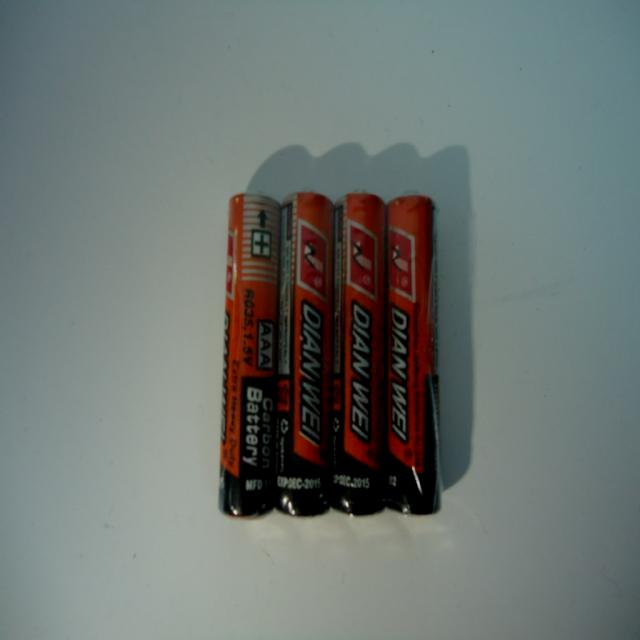AAA: (216, 191, 281, 521), (276, 189, 336, 522), (338, 188, 390, 517), (392, 193, 440, 516)
